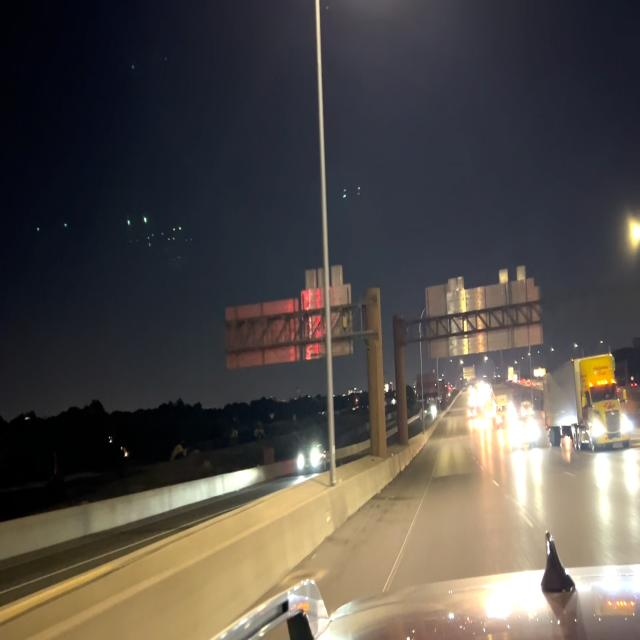back-of-sign: (227, 267, 353, 373), (425, 266, 543, 362)
